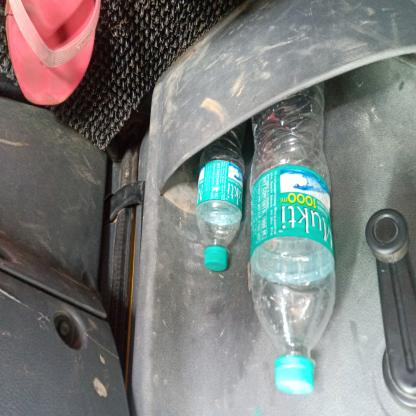bottle: (119, 191, 359, 311), (213, 122, 333, 188)
